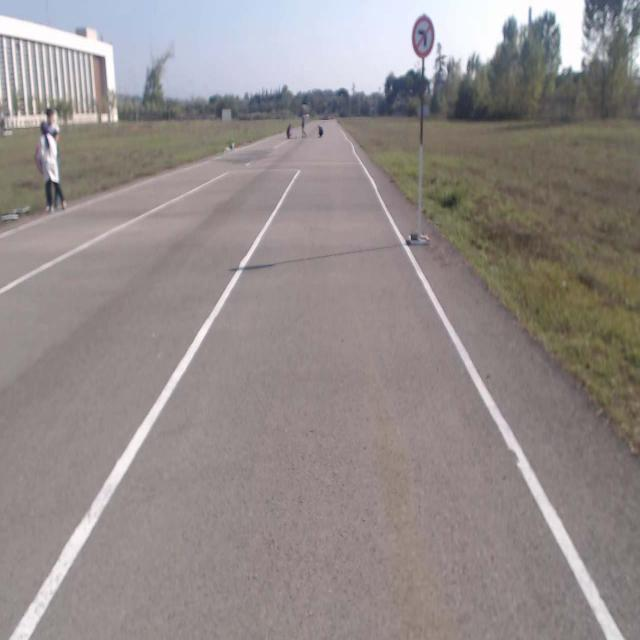soladonulmez: (412, 16, 436, 57)
